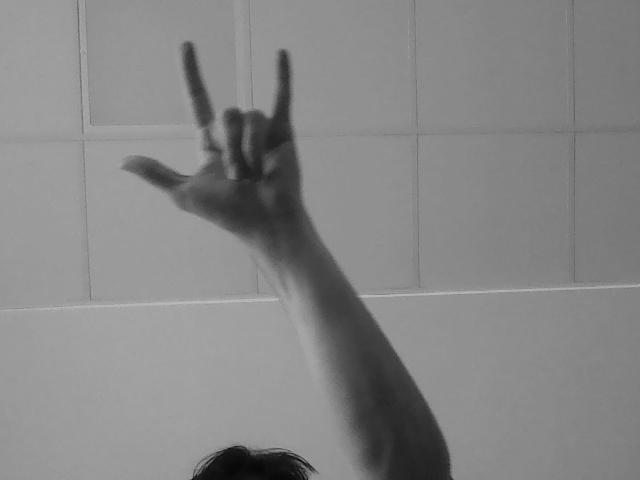I_Love_You: (131, 40, 345, 236)
